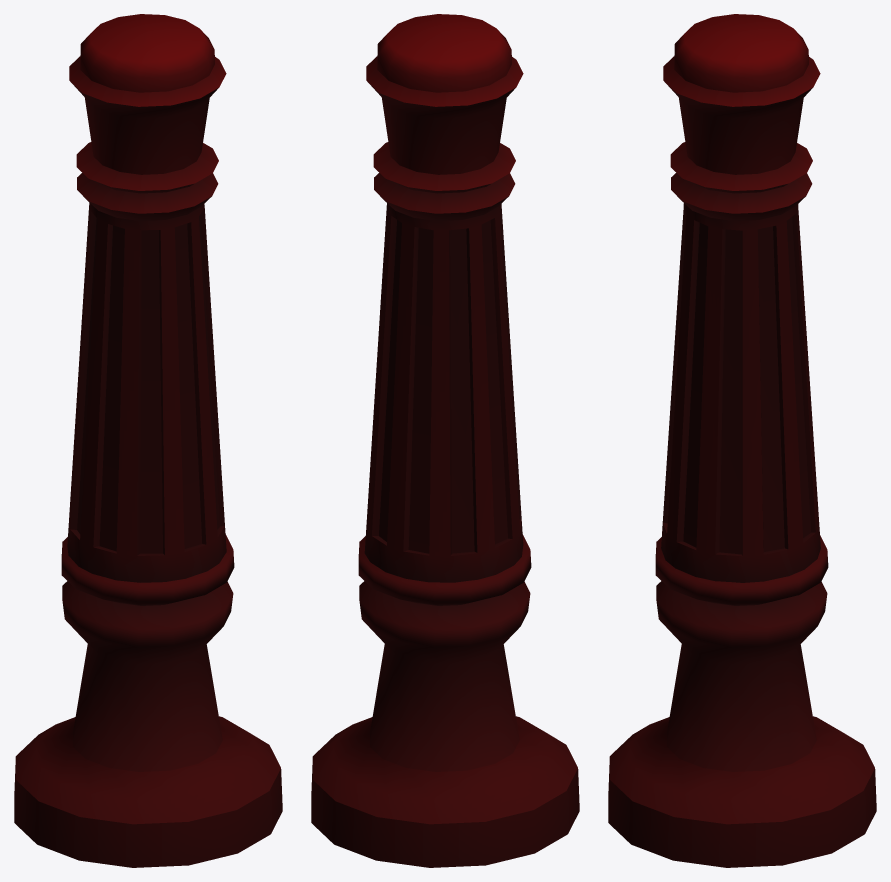
The model's file is OrnateBollard.glb.
3 renders of one model, left to right at view 1: azimuth 30°, elevation 25°; view 2: azimuth 150°, elevation 25°; view 3: azimuth 270°, elevation 25°, orthographic.
Parts seen in each view (by area): view 1: OrnateBollard; view 2: OrnateBollard; view 3: OrnateBollard.
Boxes of the visible parts, box(x1,y1,x2,y2) form: OrnateBollard: box(14, 14, 282, 867); OrnateBollard: box(311, 14, 579, 867); OrnateBollard: box(608, 14, 876, 867).
Size of the model in its own units: 1.24 by 3.94 by 1.23.
